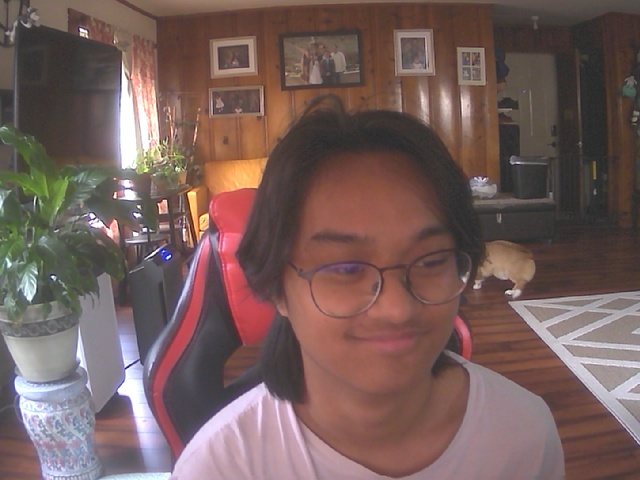happy: (264, 132, 480, 399)
